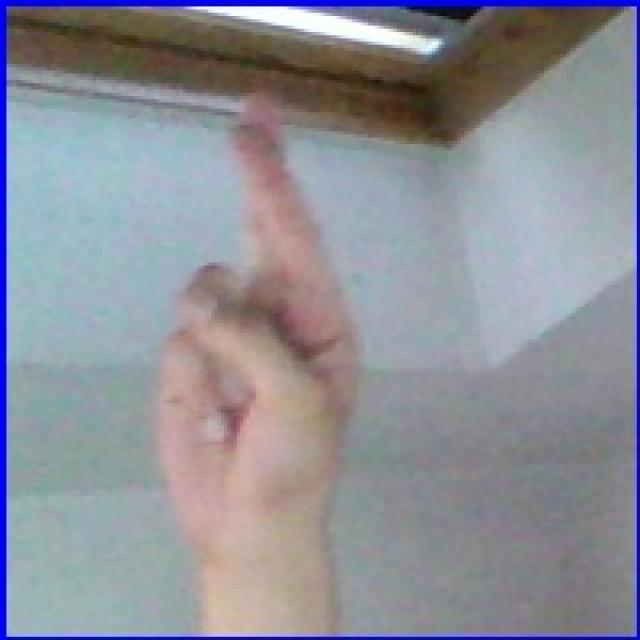Letra-R: (120, 72, 409, 598)
